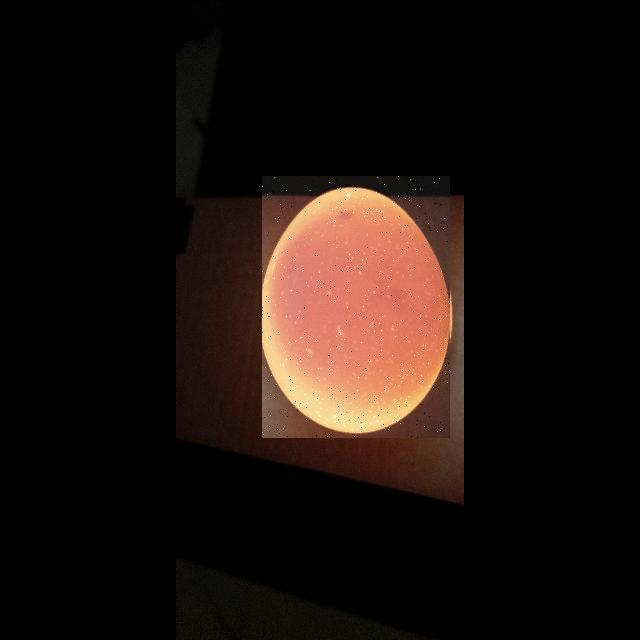A - Good: (262, 176, 450, 438)
